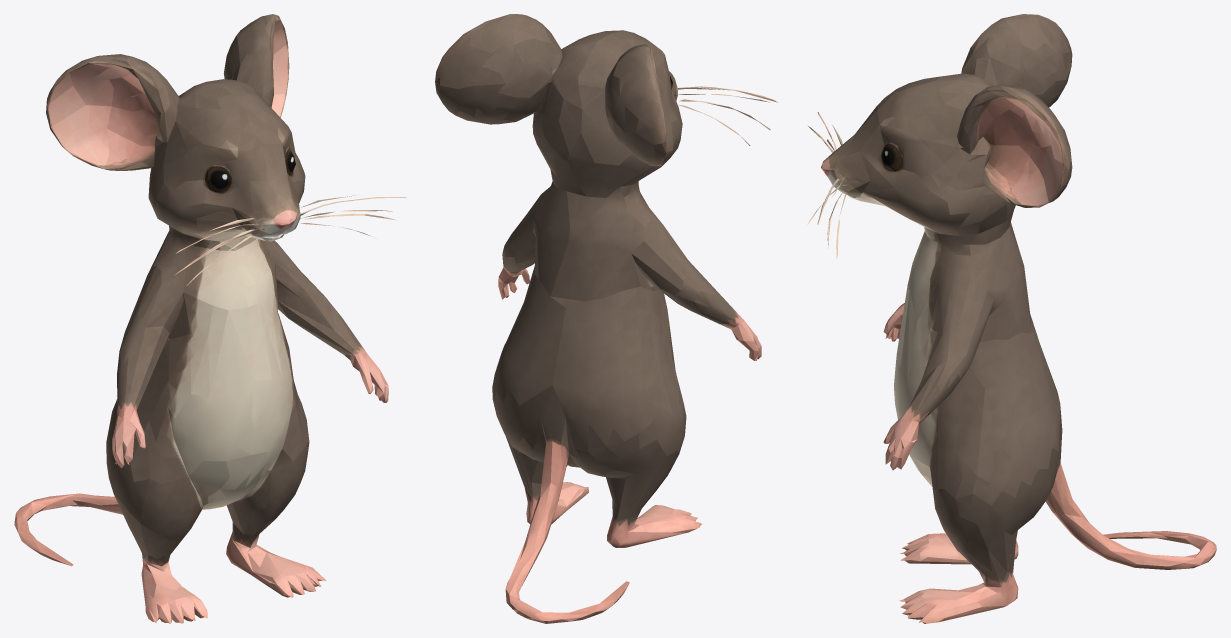
File: mouse.glb
3 views of the same model, side by side, from view 1: azimuth 30°, elevation 25°; view 2: azimuth 150°, elevation 25°; view 3: azimuth 270°, elevation 25° (orthographic). The views are drawn at different scales.
Parts seen in each view (by area): view 1: output_unwrapped; view 2: output_unwrapped; view 3: output_unwrapped.
Boxes of the visible parts, box(x1,y1,x2,y2) form: output_unwrapped: box(14, 14, 406, 623); output_unwrapped: box(435, 14, 777, 623); output_unwrapped: box(807, 14, 1216, 623).
Bounding box in the file's own units: 1.02 × 1.9 × 1.33.
1 material, 1 textured.
